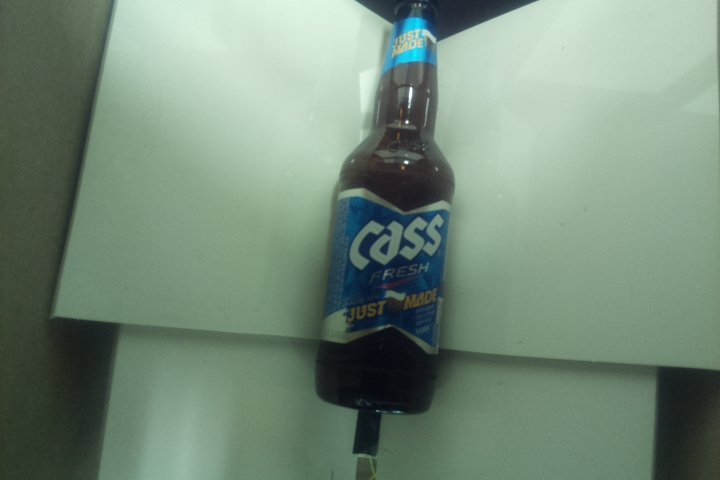makju: (314, 1, 460, 419)
